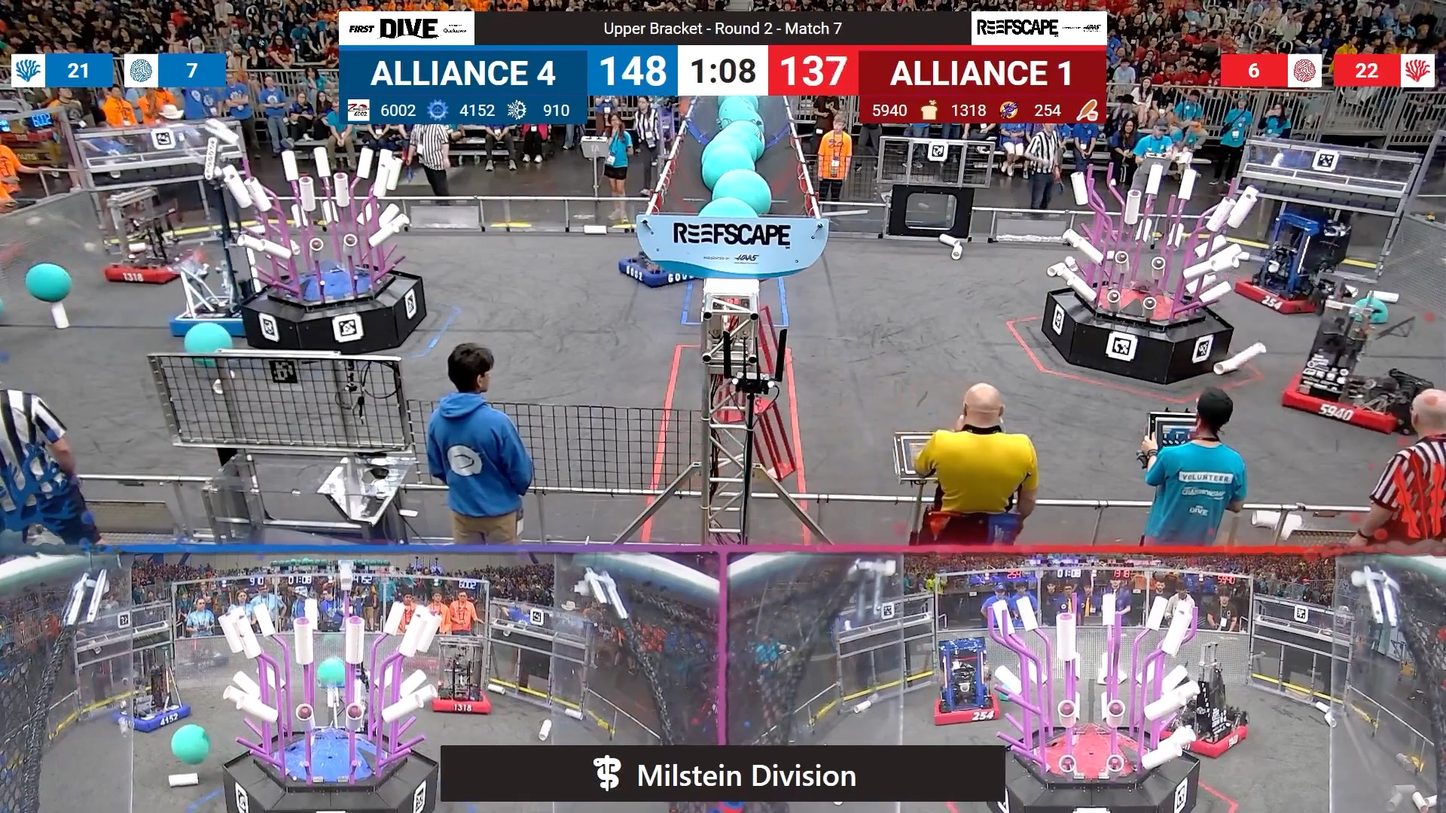bumpers: (1273, 365, 1424, 440), (1223, 275, 1337, 322), (100, 247, 207, 292), (166, 295, 252, 342), (1166, 716, 1255, 761), (107, 700, 198, 739), (928, 689, 1004, 730), (418, 682, 495, 720), (613, 256, 694, 288)
